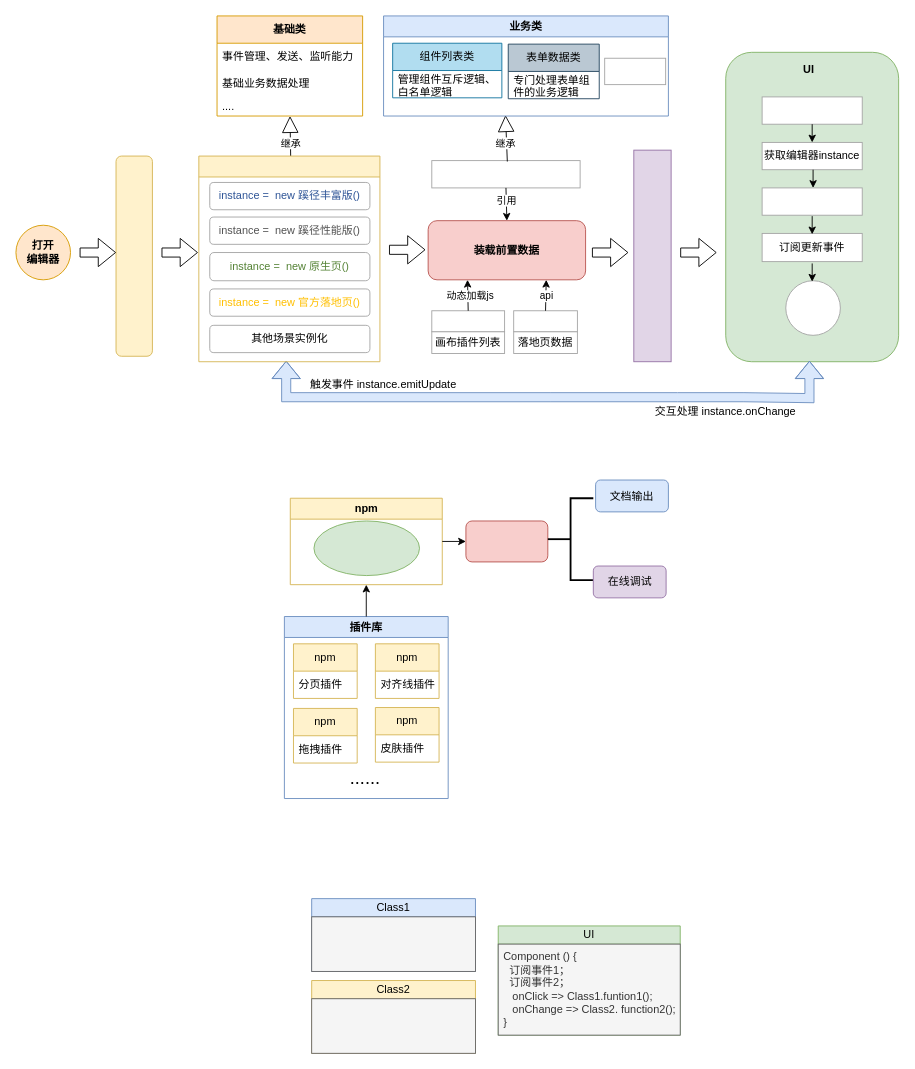
Some shapes in this 915 by 1069 pixel diagram are drawn without their labels. The centre of each missing label's shape, as x and y in pixels:
functionA() { 业务逻辑 this.emitEvent('事件1'); }: point 393,943
functionB() { 业务逻辑 Class1. functionA(); this.emitEvent('事件2'); }: point 393,1025
storyBook: point 506,541
其他模块类: point 635,71
实例化其他子业务类: point 505,174
实例化当前版本instance: point 289,258
形态组件库: point 468,321
渲染完成: point 812,307
版 本 判 断: point 133,255
用户信息: point 545,321
画布内核 bricer-core: point 366,548
组 件 接 入 层: point 652,255
获取组件状态: point 811,201
装载插件: point 811,110
